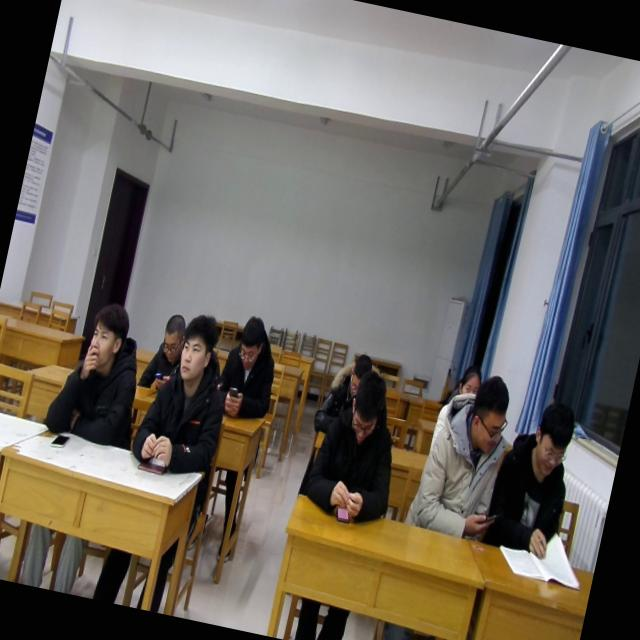bow: (212, 308, 288, 424), (310, 344, 382, 443)
down: (522, 393, 582, 483), (344, 368, 394, 448), (228, 309, 270, 375), (154, 305, 190, 364), (344, 348, 374, 399)
lookup: (170, 305, 226, 390), (81, 295, 136, 378), (453, 358, 485, 403)
sit: (126, 304, 246, 484), (402, 359, 518, 544), (298, 360, 414, 530), (480, 389, 590, 562), (40, 292, 156, 455), (426, 356, 485, 462), (137, 306, 192, 394)
